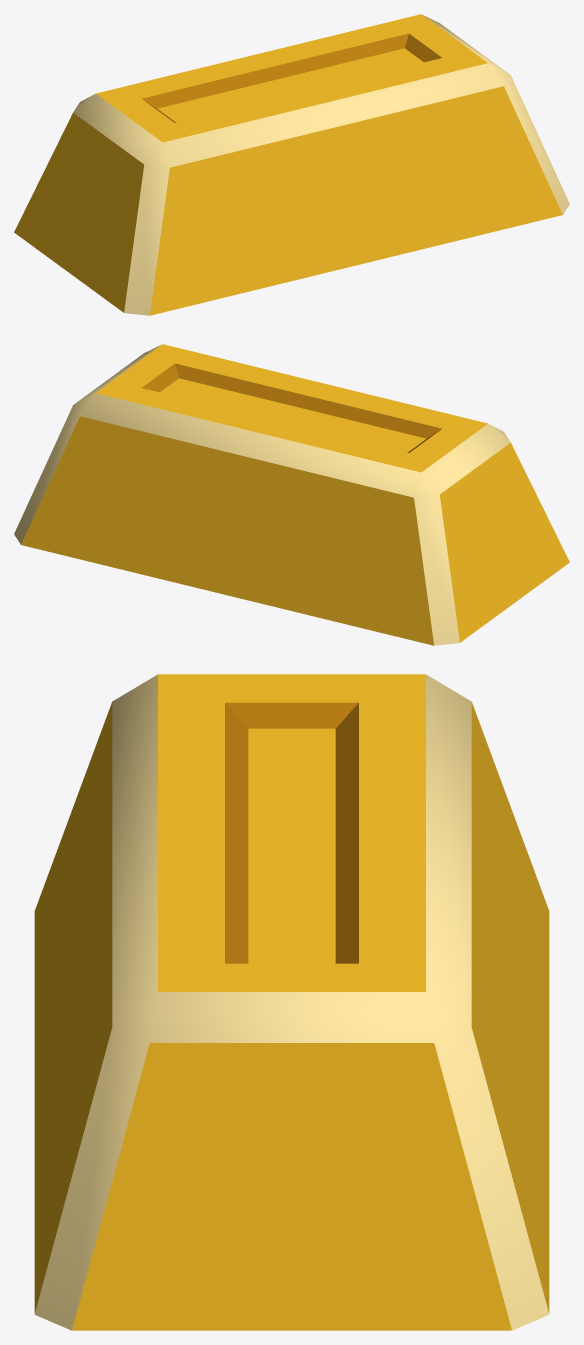
The model's file is GoldBar.fbx.
3 views of the same model, one above another, from view 1: azimuth 30°, elevation 25°; view 2: azimuth 150°, elevation 25°; view 3: azimuth 270°, elevation 25° (orthographic). The views are drawn at different scales.
Parts seen in each view (by area): view 1: GoldBar; view 2: GoldBar; view 3: GoldBar.
Part boxes in pixels (x1=…): GoldBar: x1=14, y1=14, x2=569, y2=315; GoldBar: x1=14, y1=344, x2=569, y2=645; GoldBar: x1=34, y1=674, x2=549, y2=1330.
Bounding box in the file's own units: 2 × 0.6 × 1.
1 material, 1 textured.
